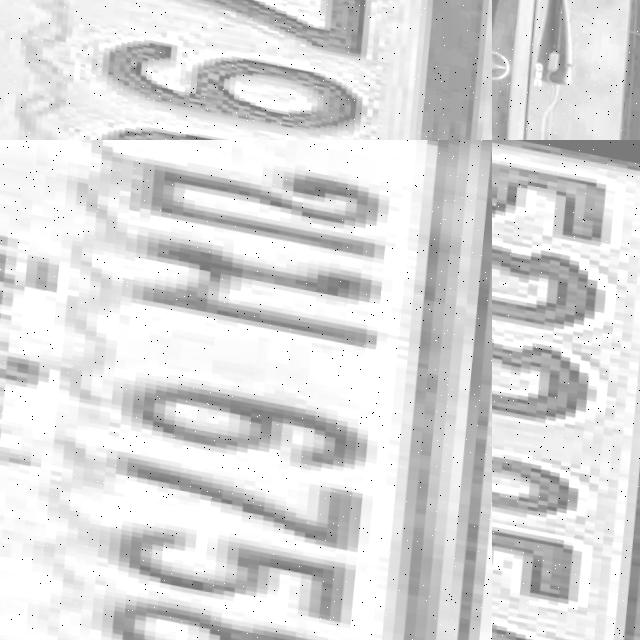license-plate: (0, 140, 492, 640), (492, 140, 640, 640), (0, 0, 492, 140)
